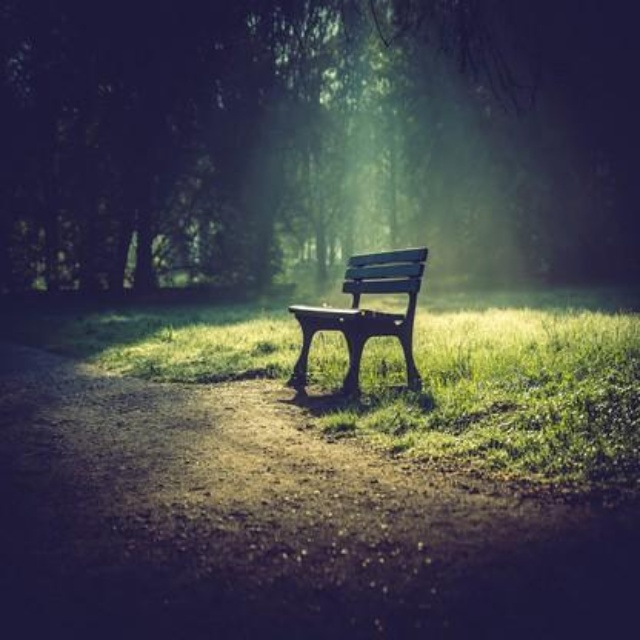obstacle: (285, 234, 443, 429)
